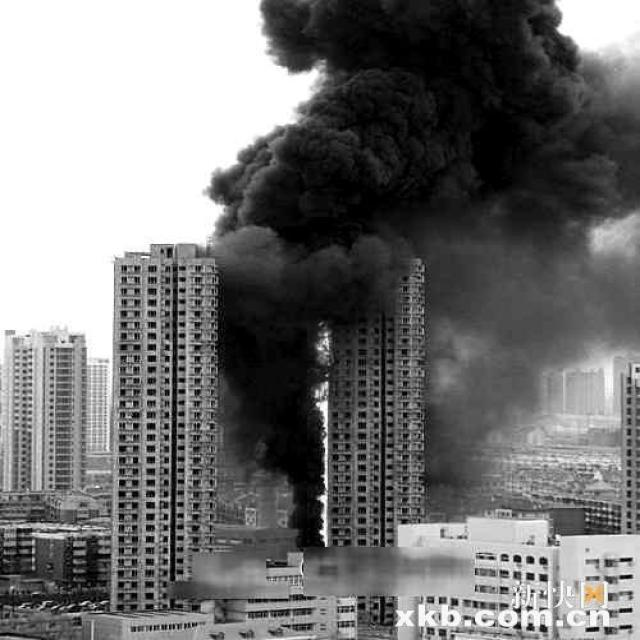Smoke: (197, 1, 640, 548)
